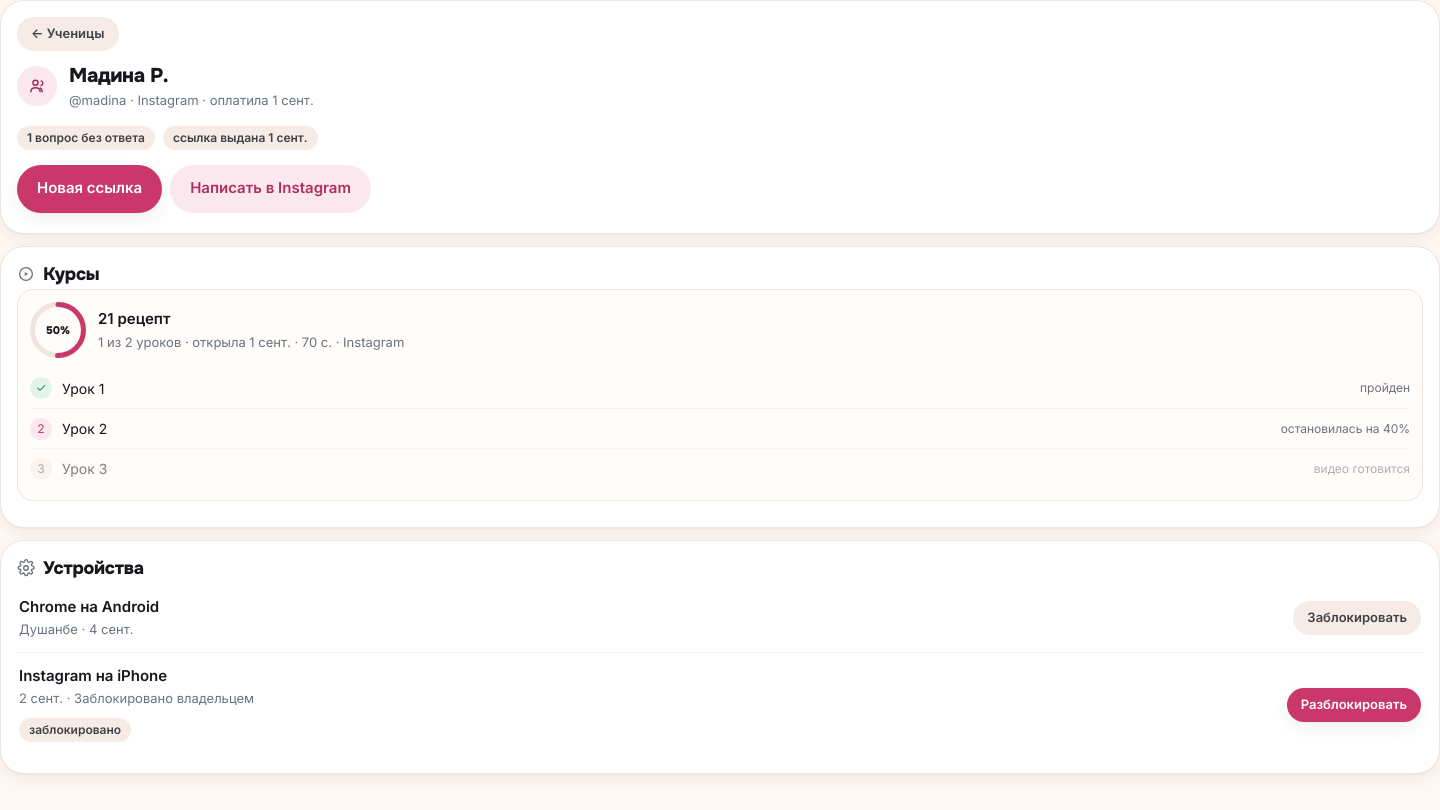
Test case: StudentPage — карточка ученицы › «Новая ссылка» — подтверждение, POST /link, ссылка показана и скопирована
Expected: the text "Мадина Р." is shown, [69,63,168,88]
Click the button "Новая ссылка": [90, 188] box [17,164,162,212]
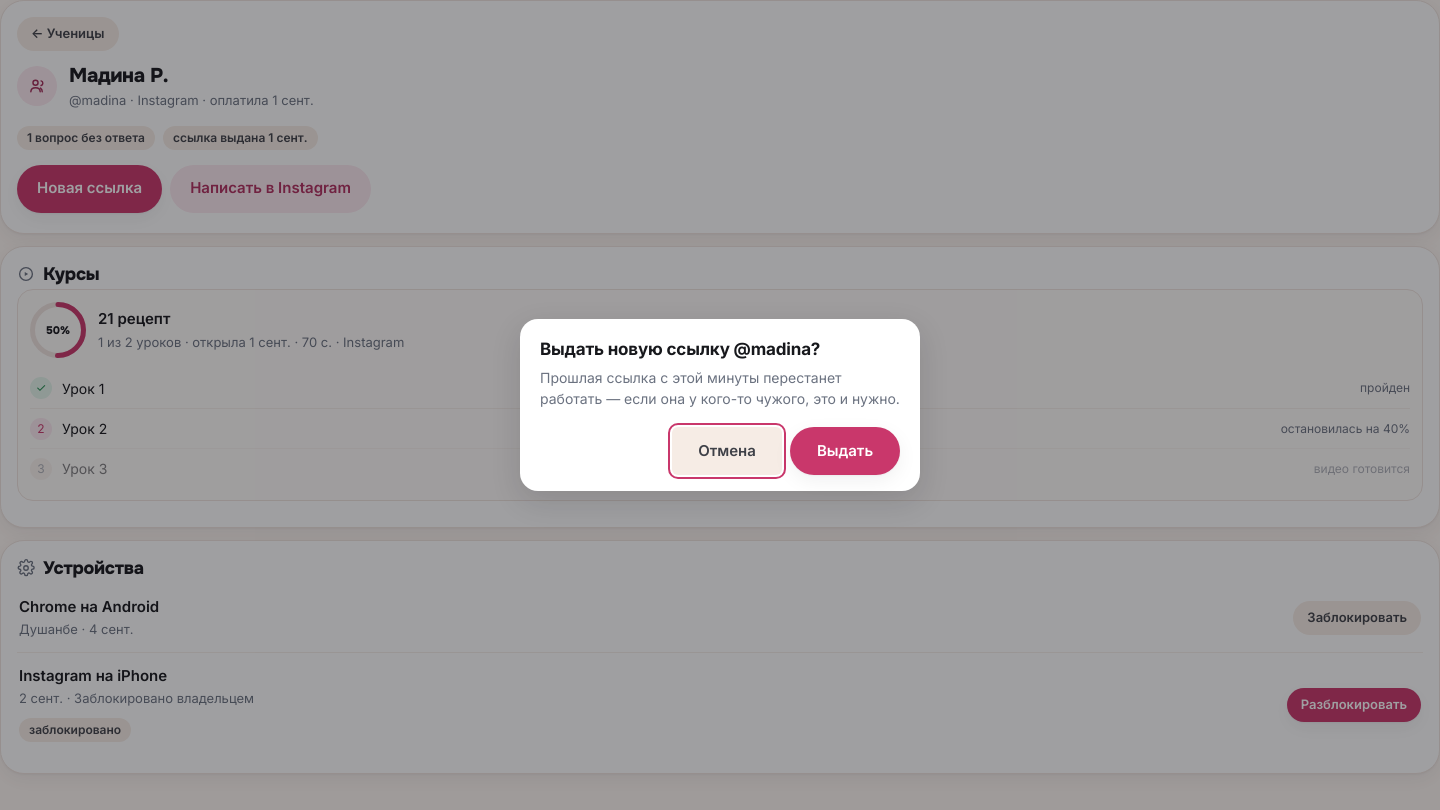
Click the button "Выдать": [845, 451] box [790,427,900,475]
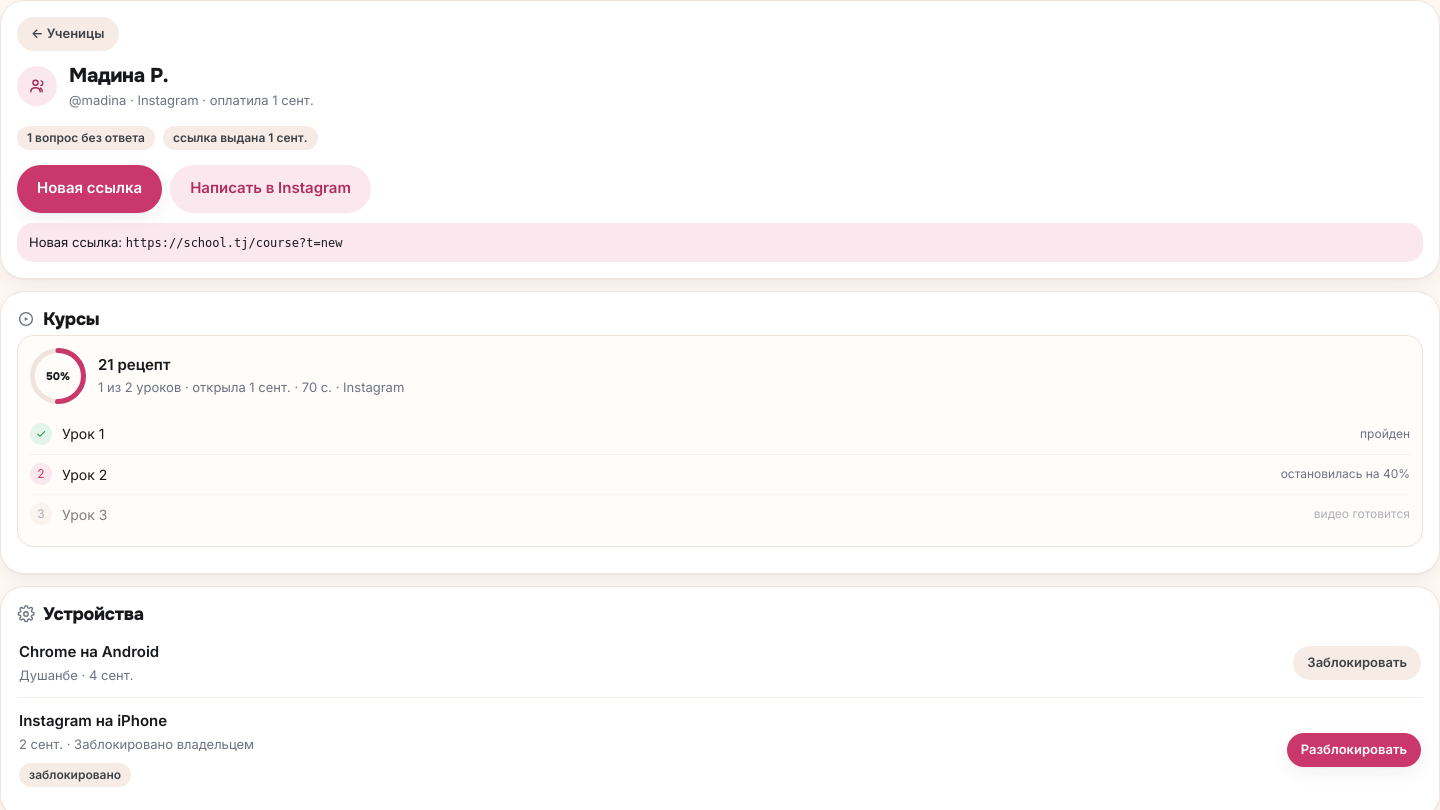
Expected: the element with test id "new-link" shows "https://school.tj/course?t=new", [126,236,342,250]
